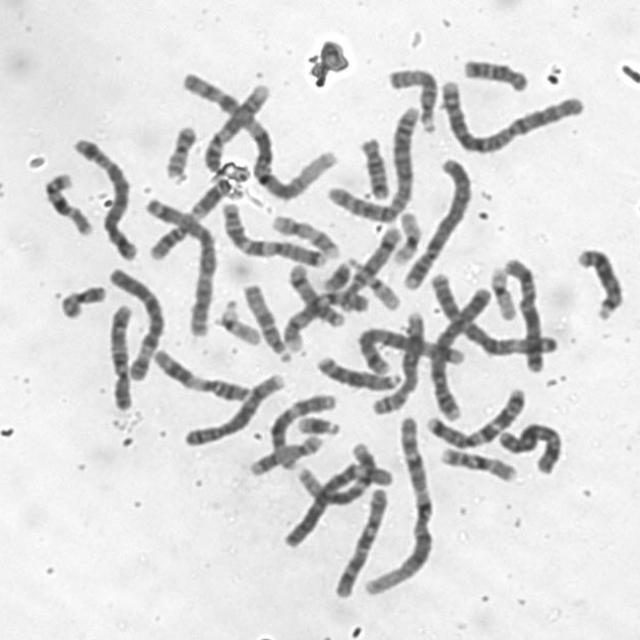A1: (178, 64, 340, 202), (358, 411, 438, 598)
A2: (322, 101, 423, 225), (436, 73, 586, 156)
A3: (424, 268, 558, 357), (142, 194, 218, 338)
B4: (398, 153, 474, 292), (426, 280, 494, 423)
B5: (66, 131, 138, 263), (352, 324, 468, 375)
C10: (330, 484, 391, 600), (105, 298, 135, 412)
C11: (146, 174, 238, 264), (148, 343, 253, 403)
C12: (267, 388, 337, 471), (293, 458, 394, 504)
C6: (277, 454, 386, 550), (104, 262, 168, 384)
C7: (218, 195, 330, 268), (422, 383, 529, 450)
C8: (179, 367, 288, 450), (368, 308, 426, 418)
C9: (201, 78, 275, 176), (280, 286, 372, 353)
D13: (571, 242, 626, 324), (313, 350, 403, 392)
D14: (338, 222, 402, 311), (286, 259, 348, 328)
D15: (238, 277, 294, 364), (384, 62, 443, 135)
E16: (37, 167, 94, 237), (436, 443, 519, 483)
E17: (268, 208, 344, 259), (246, 429, 325, 477)
E18: (458, 53, 531, 94), (354, 131, 392, 200)
F19: (388, 206, 424, 266), (486, 260, 520, 322)
F20: (160, 119, 200, 182), (56, 280, 109, 320)
G21: (317, 252, 358, 293), (294, 411, 342, 436)
G22: (212, 295, 263, 346), (360, 267, 402, 311)
X: (499, 252, 546, 376), (494, 418, 565, 476)
